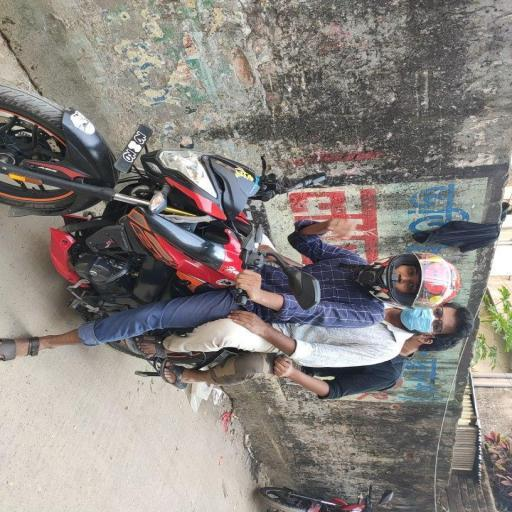helmet: (359, 225, 462, 310)
triple riding: (78, 9, 428, 512)
